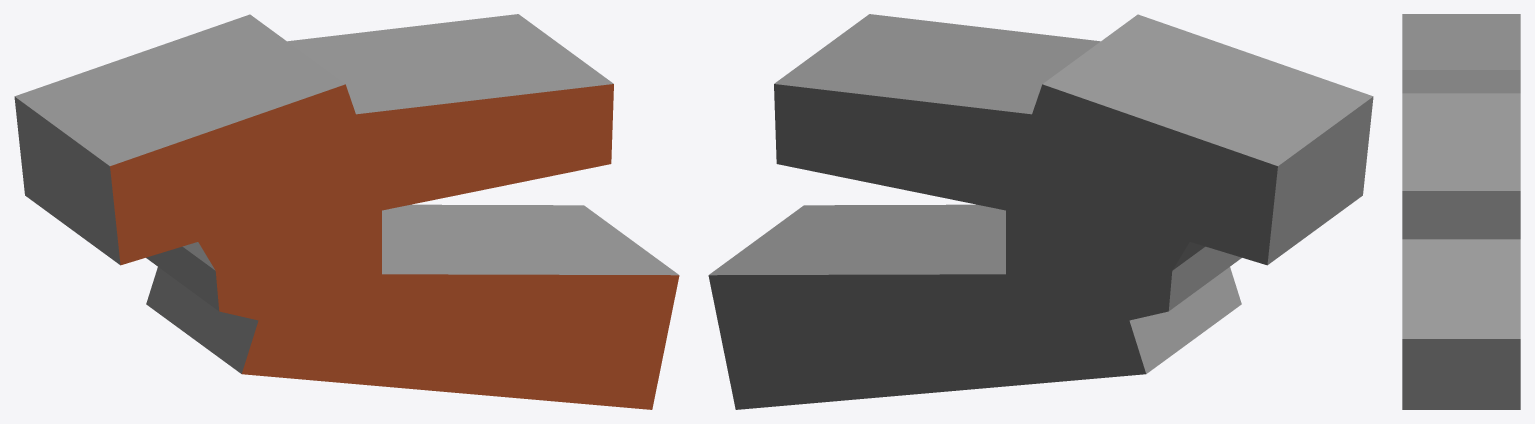
File: construction_6154_assumed_A_Casa_h6m.obj
3 views of the same model, side by side, from view 1: azimuth 30°, elevation 25°; view 2: azimuth 150°, elevation 25°; view 3: azimuth 270°, elevation 25° (orthographic). The views are drawn at different scales.
Visible parts, largest first — view 1: construction_6154_assumed_A_Casa; view 2: construction_6154_assumed_A_Casa; view 3: construction_6154_assumed_A_Casa.
Part boxes in pixels (box(x1,y1,x2,y2)): construction_6154_assumed_A_Casa: box(14, 14, 679, 409); construction_6154_assumed_A_Casa: box(708, 14, 1373, 409); construction_6154_assumed_A_Casa: box(1402, 14, 1520, 409).
Size of the model in its own units: 20.65 by 13.88 by 6.
